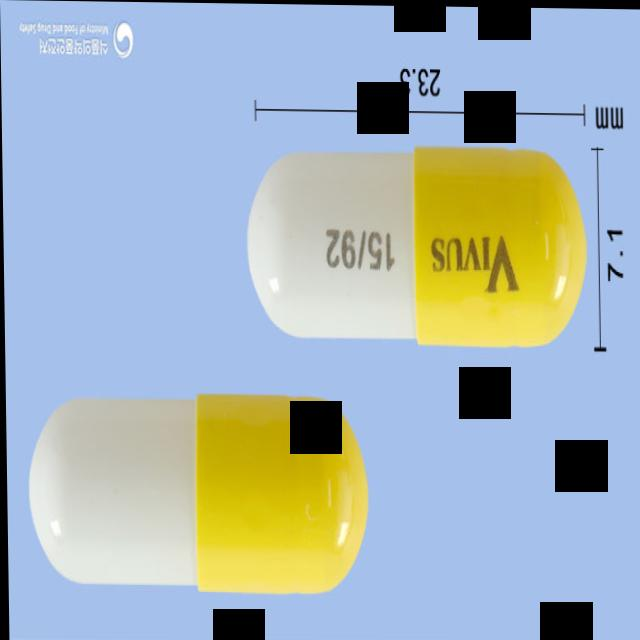Qsymia Cap-15mg: (243, 139, 586, 348), (24, 386, 367, 595)
